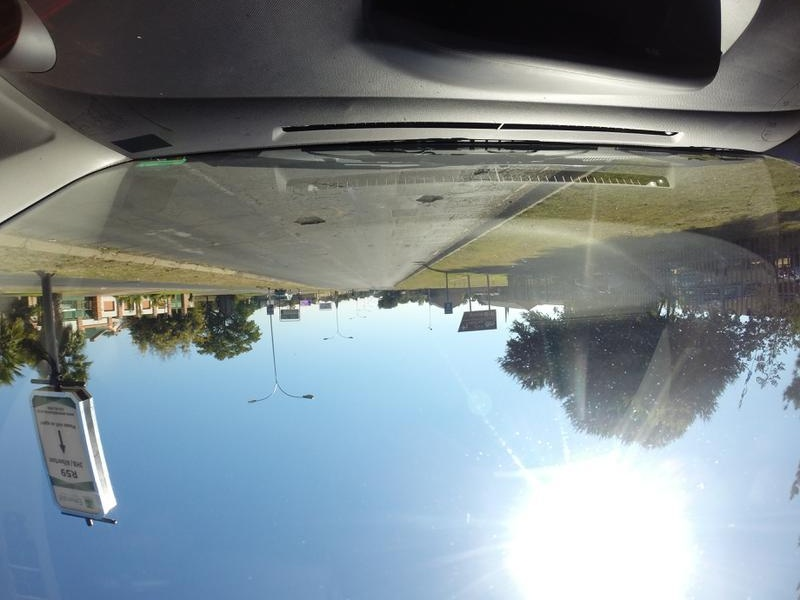pothole: (272, 204, 329, 229), (403, 191, 448, 211), (461, 166, 497, 182)
